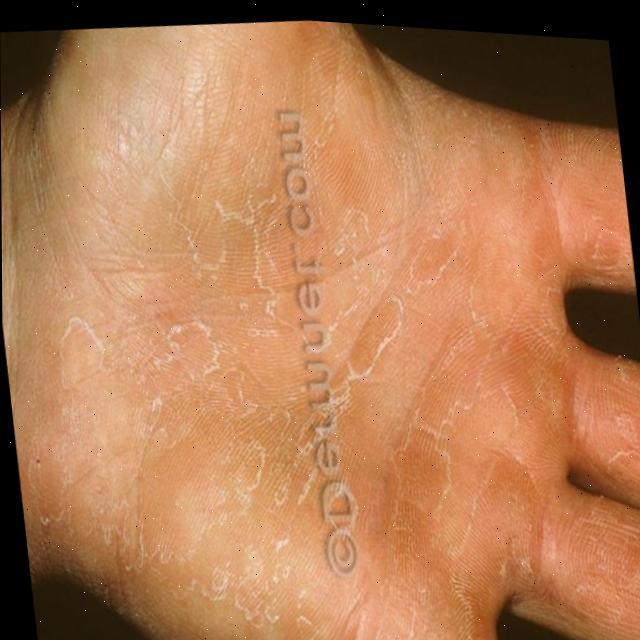Eczema: (74, 62, 640, 640)
